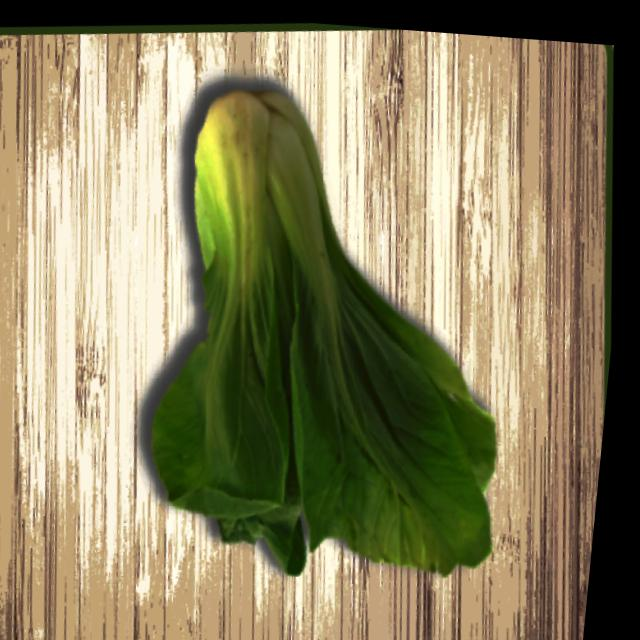chinese_cabbage: (64, 58, 537, 640)
